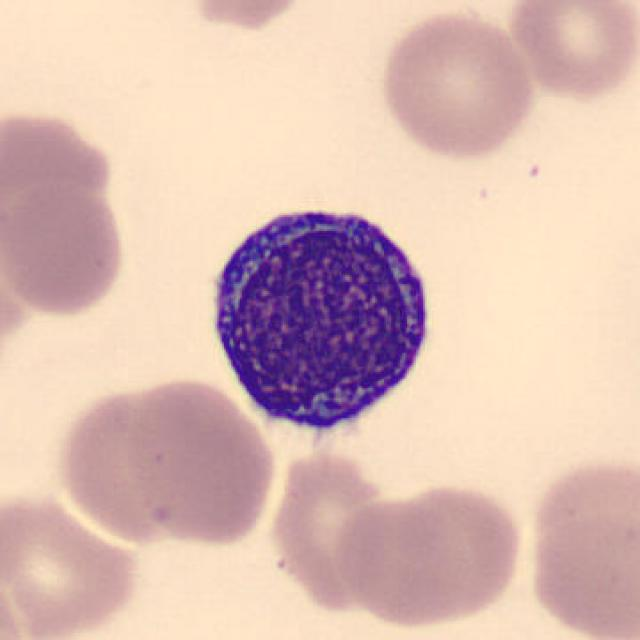Monocyte: (192, 187, 448, 448)
RBC: (332, 478, 528, 633), (53, 374, 219, 548), (119, 372, 281, 550), (375, 7, 539, 162), (0, 485, 146, 640), (521, 451, 640, 640), (268, 441, 393, 611), (0, 104, 121, 263), (2, 178, 130, 323), (502, 0, 638, 104), (168, 0, 316, 33), (0, 562, 28, 639)
